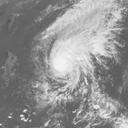cyclone: (48, 39, 89, 82)
